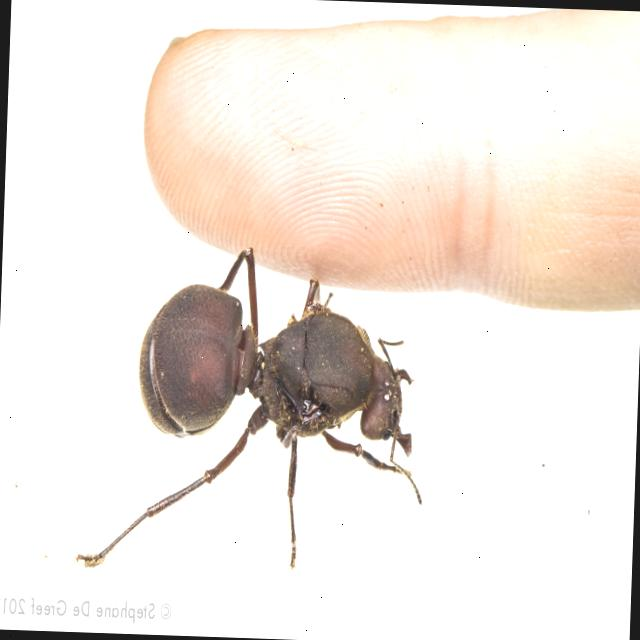Alive-Female-Dealate: (72, 240, 430, 580)
